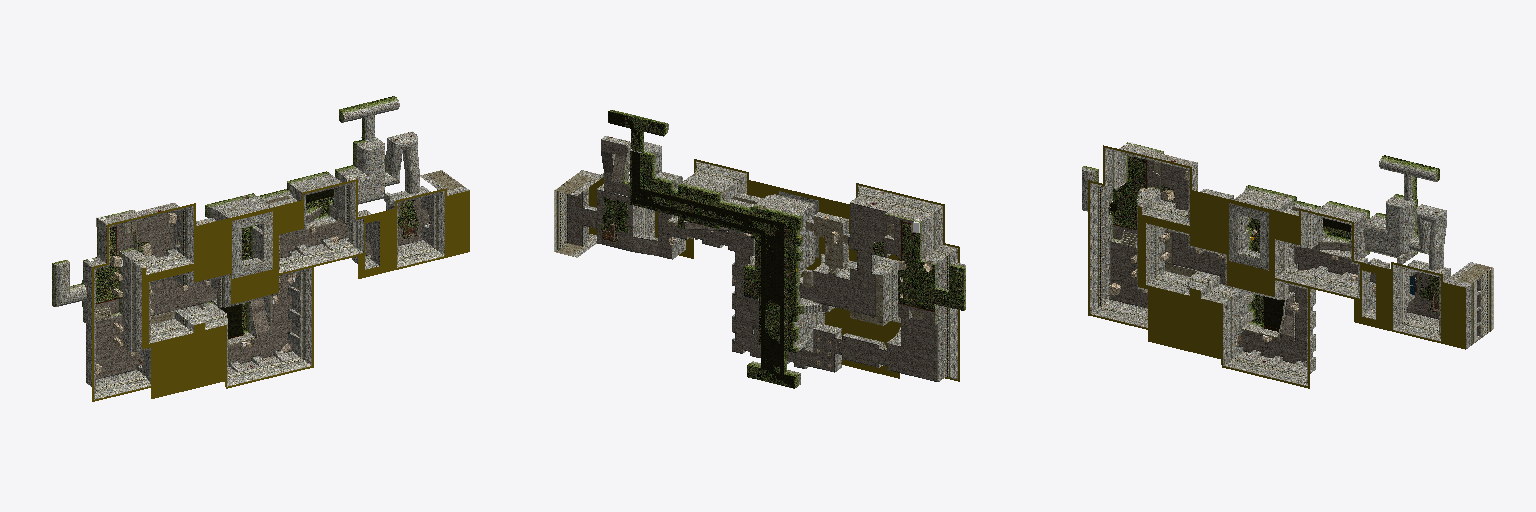
3 views of the same model, side by side, from view 1: azimuth 30°, elevation 25°; view 2: azimuth 150°, elevation 25°; view 3: azimuth 330°, elevation 25° (orthographic).
Parts seen in each view (by area): view 1: BSP_Object.model_0.002; view 2: BSP_Object.model_0.002, BSP_Object.model_15.002, BSP_Object.model_14.002; view 3: BSP_Object.model_0.002, BSP_Object.model_15.002.
Boxes of the visible parts, <box> form: BSP_Object.model_0.002: <box>52,96,469,401</box>; BSP_Object.model_0.002: <box>554,110,965,388</box>; BSP_Object.model_15.002: <box>761,234,783,373</box>; BSP_Object.model_14.002: <box>640,188,783,238</box>; BSP_Object.model_0.002: <box>1082,142,1493,388</box>; BSP_Object.model_15.002: <box>1264,296,1284,331</box>.
Size of the model in its own units: 173 by 96 by 20.8.
Materials: 38 (35 with a texture image).